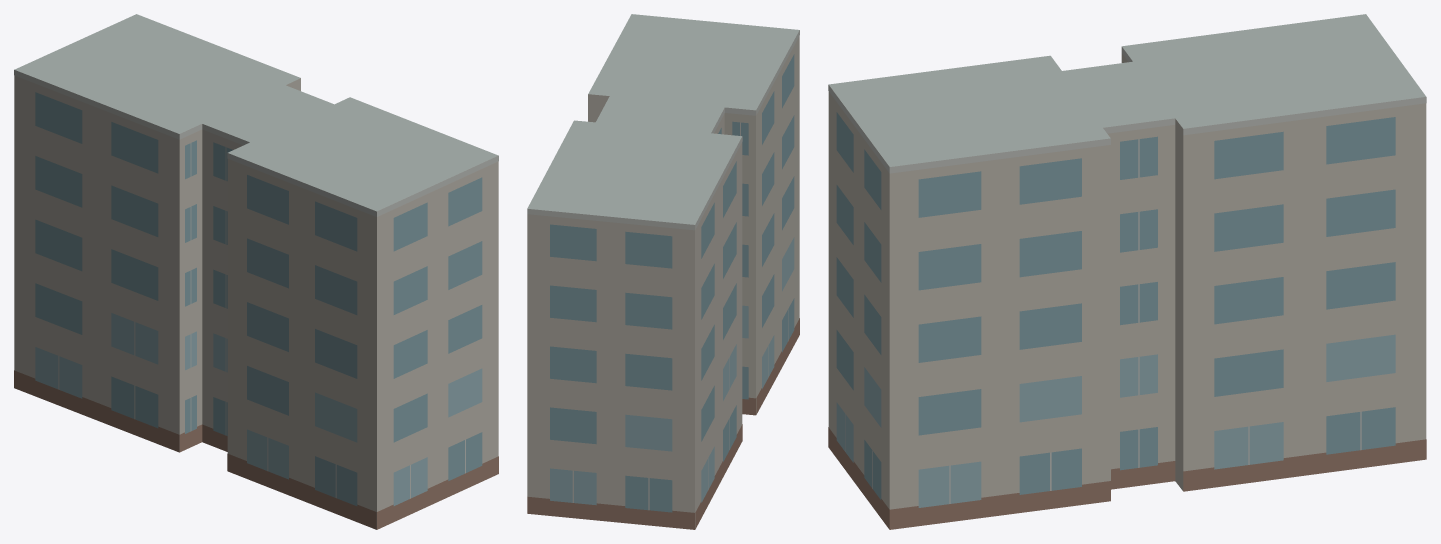
Rendered from survey-upis-32620461.glb.
3 renders of one model, left to right at view 1: azimuth 30°, elevation 25°; view 2: azimuth 150°, elevation 25°; view 3: azimuth 270°, elevation 25°, orthographic. The views are drawn at different scales.
Parts seen in each view (by area): view 1: survey-upis-32620461.tmp; view 2: survey-upis-32620461.tmp; view 3: survey-upis-32620461.tmp.
Boxes of the visible parts, <box> form: survey-upis-32620461.tmp: <box>14,14,498,529</box>; survey-upis-32620461.tmp: <box>527,14,799,529</box>; survey-upis-32620461.tmp: <box>828,14,1426,529</box>.
Size of the model in its own units: 12.41 by 13.7 by 20.48.
